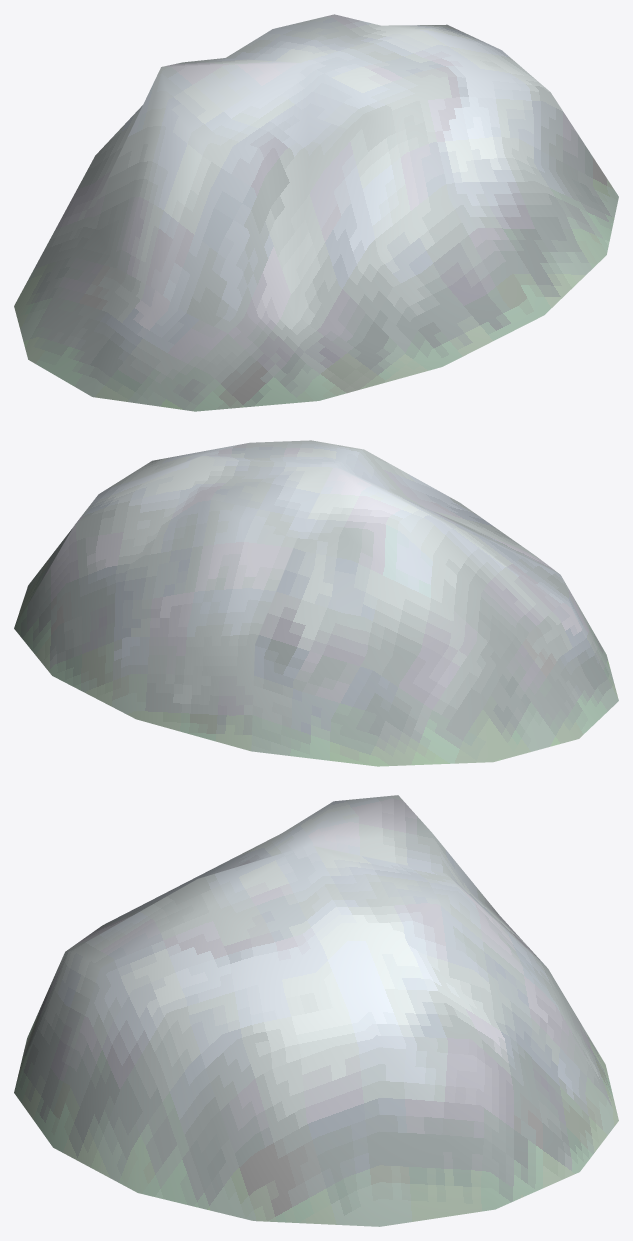
Rendered from TROLLHOLE02_STONEA15.fbx.
The picture shows the model from 3 angles, top to bottom: view 1: azimuth 30°, elevation 25°; view 2: azimuth 150°, elevation 25°; view 3: azimuth 270°, elevation 25°; orthographic projection. The views are drawn at different scales.
Parts seen in each view (by area): view 1: TROLLHOLE02_STONEA15; view 2: TROLLHOLE02_STONEA15; view 3: TROLLHOLE02_STONEA15.
Part boxes in pixels (x1,y1,x2,y2): TROLLHOLE02_STONEA15: (14,14,618,411); TROLLHOLE02_STONEA15: (14,440,618,766); TROLLHOLE02_STONEA15: (14,795,618,1226).
Size of the model in its own units: 17353 by 6661 by 13732.
1 material, 1 textured.
